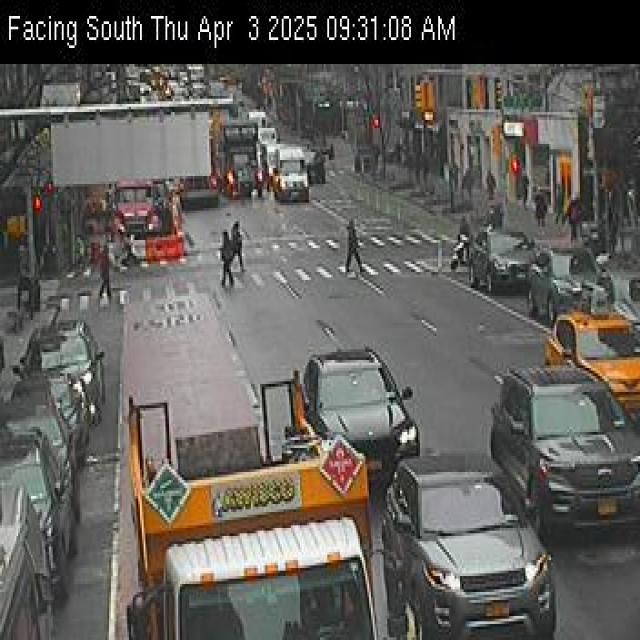open parking: (13, 220, 118, 640)
